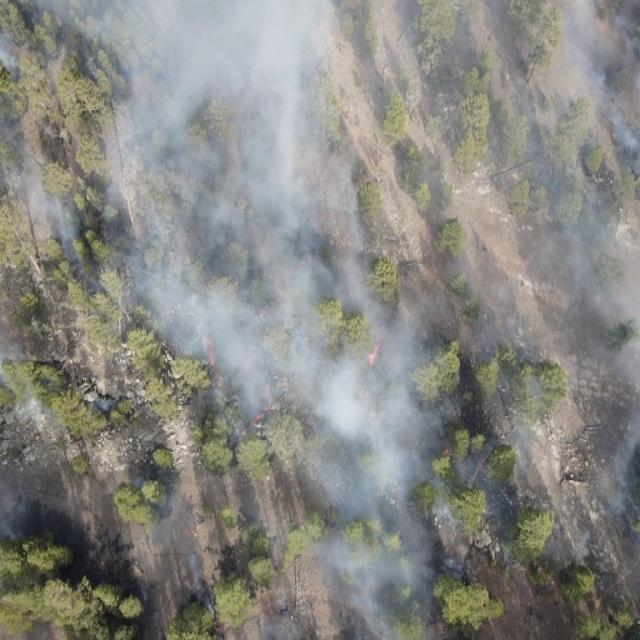fire: (236, 405, 276, 441), (200, 333, 223, 392), (358, 332, 386, 376), (469, 452, 488, 488), (439, 445, 457, 457), (298, 256, 309, 269)
smoke: (2, 0, 364, 305), (363, 0, 640, 306), (144, 303, 446, 492), (470, 306, 640, 566), (262, 489, 452, 640), (126, 470, 222, 634), (0, 342, 53, 436), (0, 484, 50, 554), (84, 381, 120, 423)
